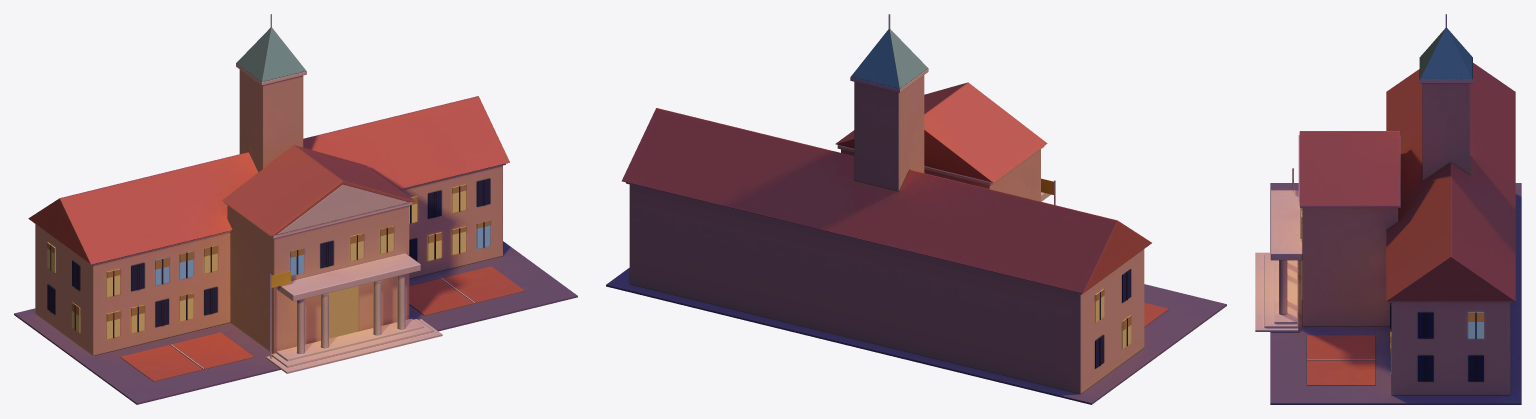
Rendered from school.glb.
The picture shows the model from 3 angles, left to right: view 1: azimuth 30°, elevation 25°; view 2: azimuth 150°, elevation 25°; view 3: azimuth 270°, elevation 25°; orthographic projection. The views are drawn at different scales.
Visible parts, largest first — view 1: school; view 2: school; view 3: school.
Boxes of the visible parts, box(x1,y1,x2,y2) form: school: box(14, 14, 577, 404); school: box(606, 14, 1226, 404); school: box(1255, 14, 1521, 404).
Bounding box in the file's own units: 11.4 × 6.77 × 5.83.
1 material, 1 textured.
